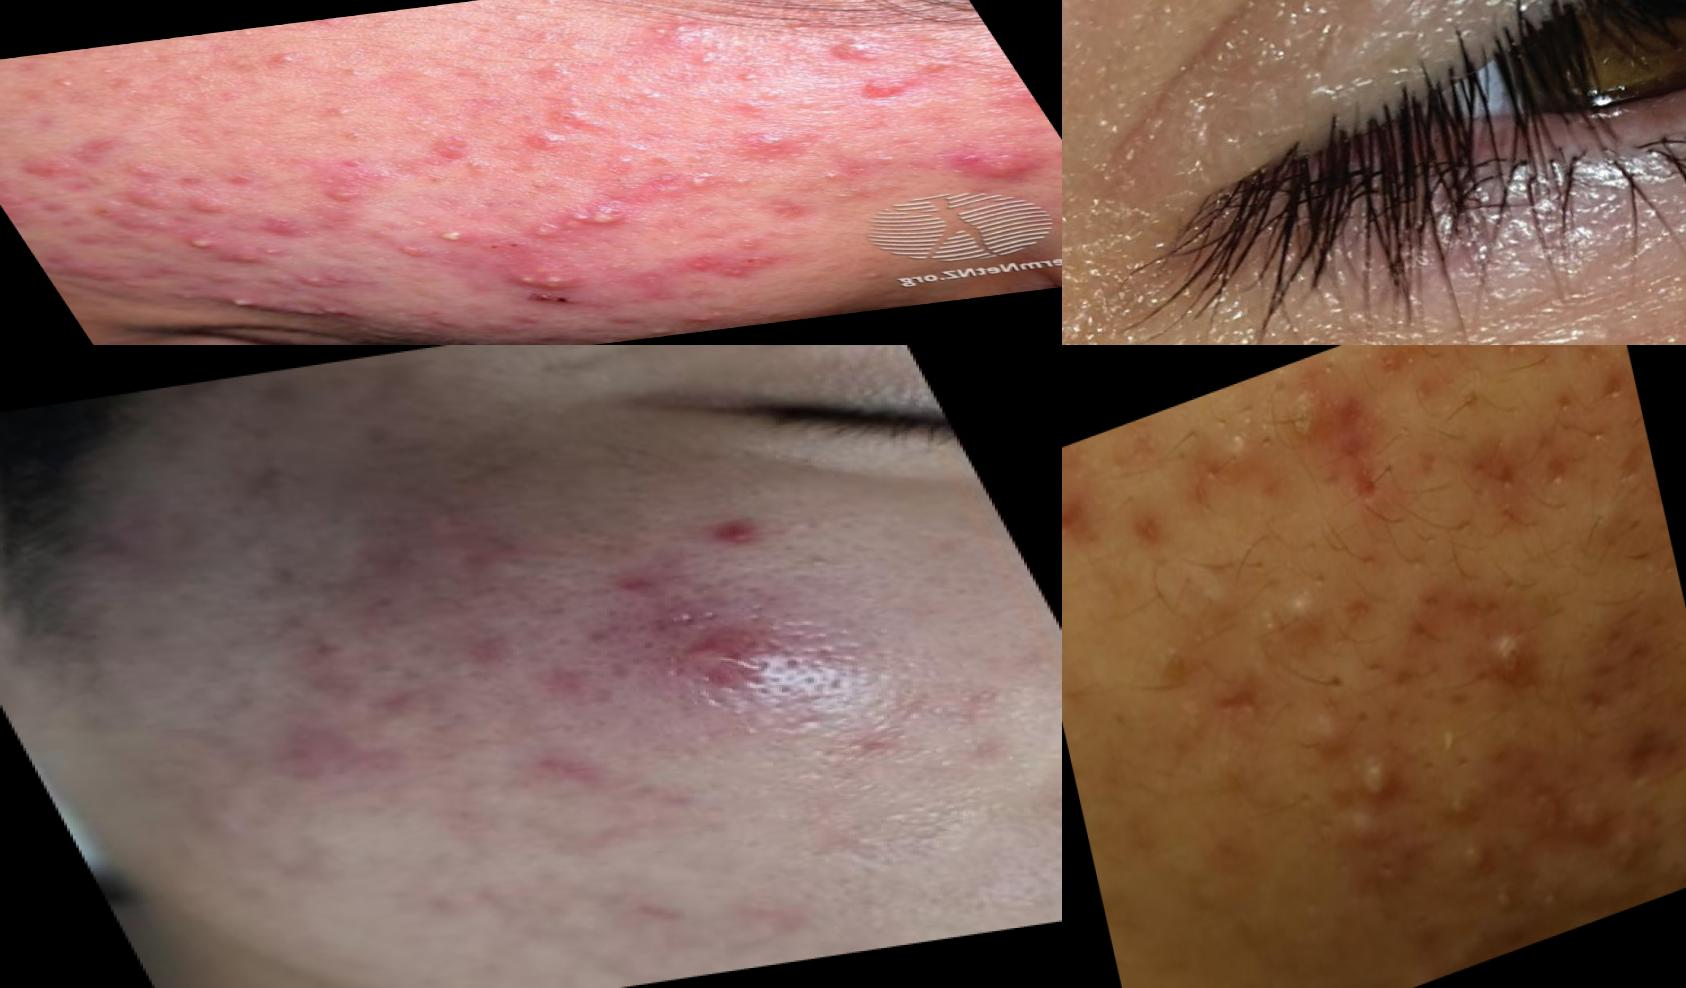acne_scars: (598, 598, 770, 648)
cystic: (583, 608, 926, 757), (1565, 795, 1610, 842)
keloid: (155, 268, 354, 338), (44, 245, 161, 298), (343, 318, 447, 346)
papular: (292, 147, 436, 201), (71, 193, 212, 247), (673, 495, 777, 562), (383, 123, 510, 178), (87, 146, 194, 195), (842, 74, 943, 118), (640, 301, 760, 336), (628, 168, 742, 202), (1, 159, 100, 192), (732, 126, 809, 168), (1063, 470, 1099, 554), (292, 185, 386, 213), (373, 234, 449, 268), (176, 196, 259, 225), (114, 181, 193, 211)
purulent: (1476, 615, 1546, 709), (1263, 372, 1337, 454), (153, 221, 250, 275), (1215, 428, 1270, 519), (1444, 821, 1505, 896), (490, 129, 600, 171), (1300, 706, 1356, 777), (1349, 747, 1399, 825), (1277, 582, 1326, 655), (1431, 774, 1486, 832), (415, 222, 489, 253)
sebo-crystan-conglo: (494, 193, 662, 252), (929, 140, 1063, 196), (645, 247, 797, 291), (474, 255, 622, 299), (807, 29, 921, 73), (146, 229, 250, 263)
syringoma: (1200, 189, 1686, 346)
whitehead: (780, 542, 888, 596), (1169, 683, 1218, 763), (1421, 717, 1472, 782), (524, 51, 606, 85), (1247, 595, 1294, 648), (603, 80, 680, 111), (841, 145, 914, 176), (306, 96, 372, 129), (1557, 346, 1618, 381), (1528, 873, 1568, 924), (479, 6, 553, 29), (35, 71, 100, 96), (798, 166, 854, 191), (635, 21, 694, 44), (261, 47, 312, 72), (669, 148, 720, 171), (721, 67, 767, 91), (600, 154, 640, 173)
